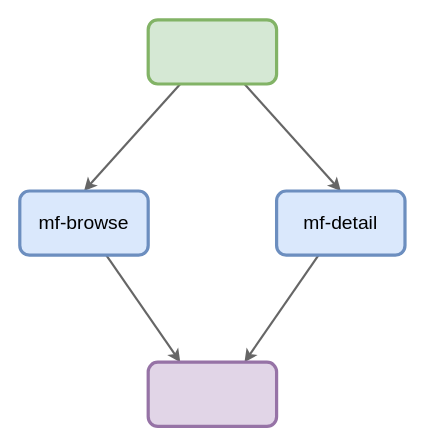
This 425x446 diagram has some shape labels left out. The box of each missing label's shape, as (x1, y1, x2, y2) in pixels:
api: (146, 360, 278, 427)
app-shell: (146, 18, 278, 85)
